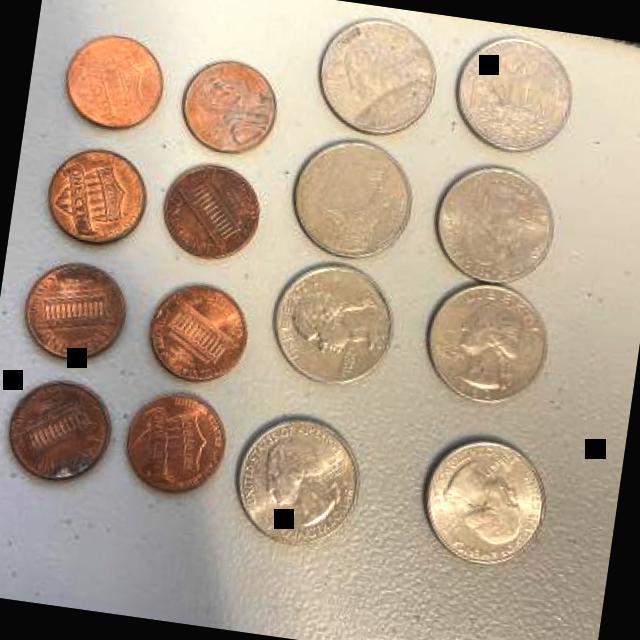Penny: (40, 137, 154, 254), (2, 372, 117, 487), (20, 254, 134, 368), (122, 386, 234, 500), (145, 274, 256, 388), (158, 152, 268, 266), (60, 25, 170, 136), (176, 51, 284, 162)
Quarter: (415, 428, 557, 574), (232, 408, 371, 554), (284, 126, 422, 266), (266, 253, 404, 393), (420, 275, 558, 409), (449, 24, 582, 158), (430, 154, 562, 288), (312, 10, 446, 140)
